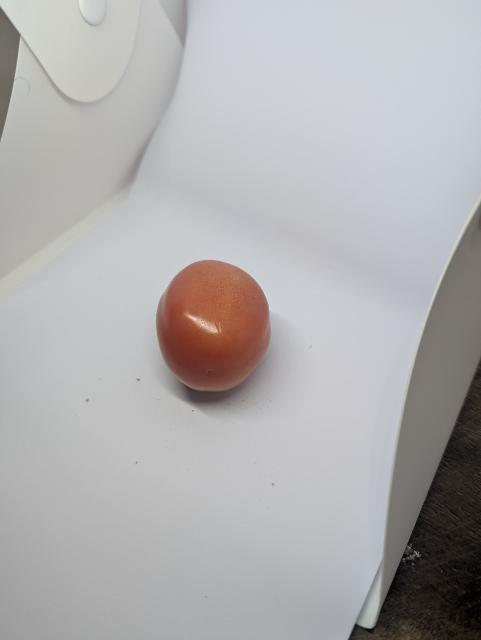red: (153, 257, 276, 397)
